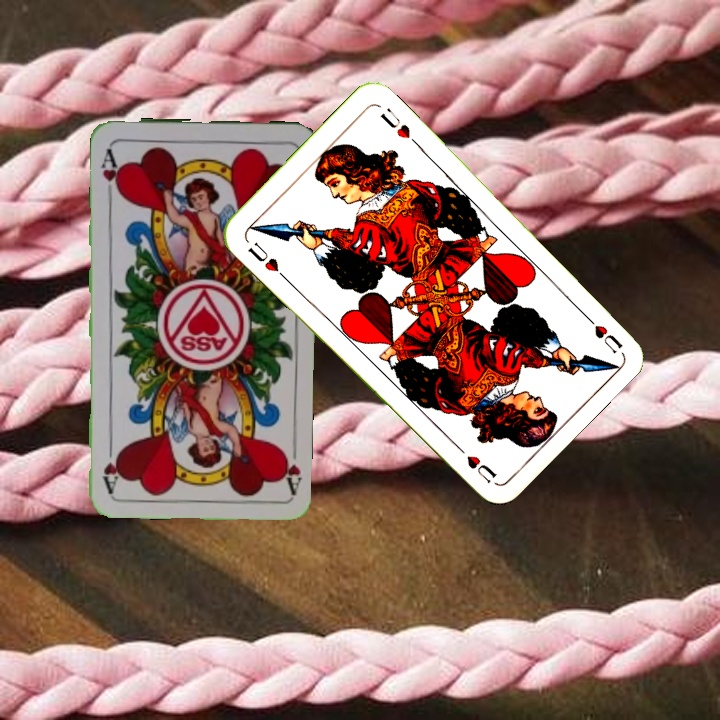HA: (276, 436, 303, 495), (97, 145, 124, 202)
HU: (578, 308, 625, 356), (244, 238, 282, 275)
